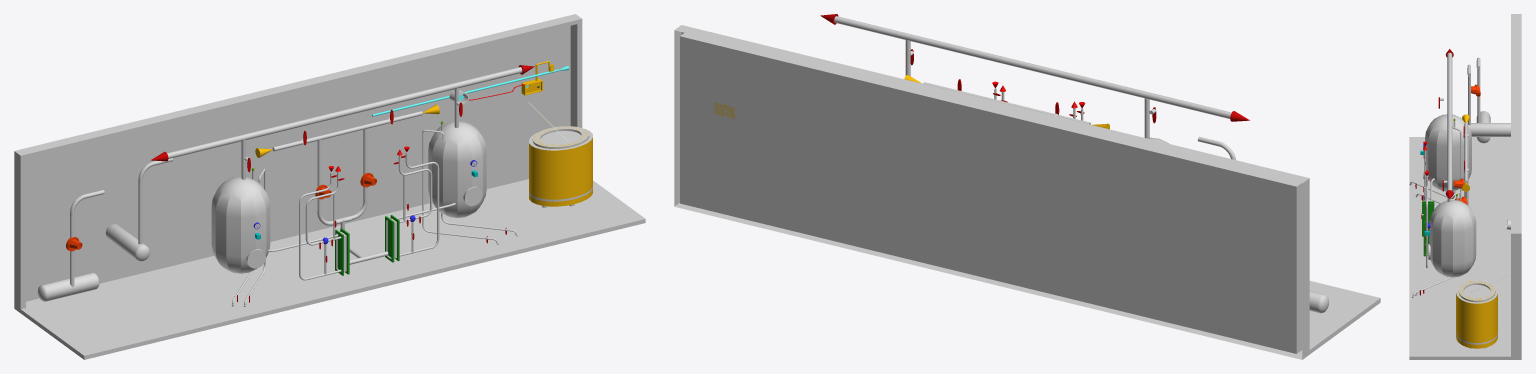
Rendered from pek02.dae.
3 renders of one model, left to right at view 1: azimuth 30°, elevation 25°; view 2: azimuth 150°, elevation 25°; view 3: azimuth 270°, elevation 25°, orthographic. The views are drawn at different scales.
Parts seen in each view (by area): view 1: group_21 (×4), capsule (×4), group_7 (×2), group_23; view 2: group_21, group_7; view 3: group_21 (×6), capsule (×4), group_7 (×2), group_93 (×2), group_75, group_63, group_68.
Boxes of the visible parts, x1,y1,x2,y2 form: group_21 (×4): (14, 14, 645, 359); capsule (×4): (37, 121, 486, 301); group_7 (×2): (167, 67, 522, 158); group_23: (372, 69, 558, 116); group_21: (674, 25, 1380, 359); group_7: (834, 16, 1231, 118); group_21 (×6): (1409, 14, 1521, 359); capsule (×4): (1425, 111, 1510, 277); group_7 (×2): (1447, 52, 1467, 190); group_93 (×2): (1468, 68, 1480, 125); group_75: (1415, 126, 1461, 203); group_63: (1409, 121, 1455, 198); group_68: (1422, 203, 1434, 236).
Size of the model in its own units: 701 by 152 by 205.
